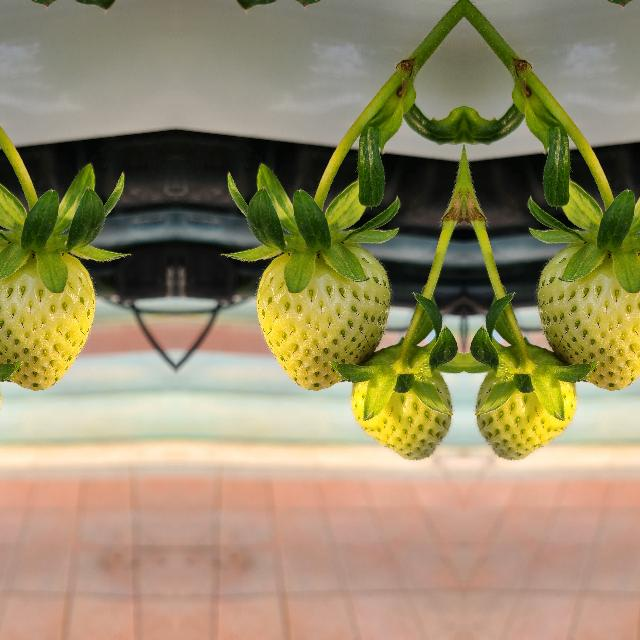Health_25: (256, 246, 388, 390), (537, 245, 640, 390), (0, 245, 94, 390), (350, 359, 452, 463), (474, 359, 576, 463)
